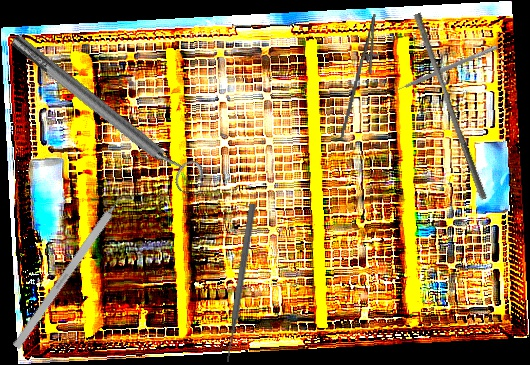Fixation Ring: (3, 22, 209, 200)
Hook Surgical: (12, 179, 135, 350)
Needle Holder: (339, 11, 386, 144)
Pusher: (406, 12, 495, 201), (222, 203, 258, 363)
Spatula Surgical: (387, 39, 499, 97)
